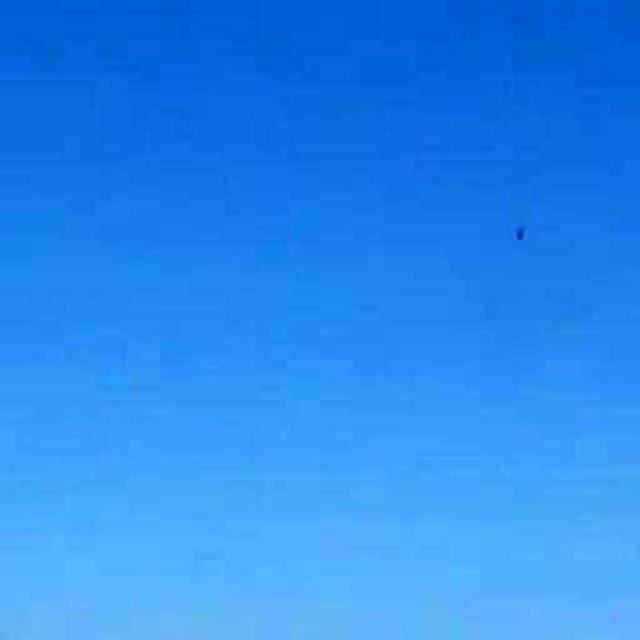drone: (491, 194, 549, 272)
